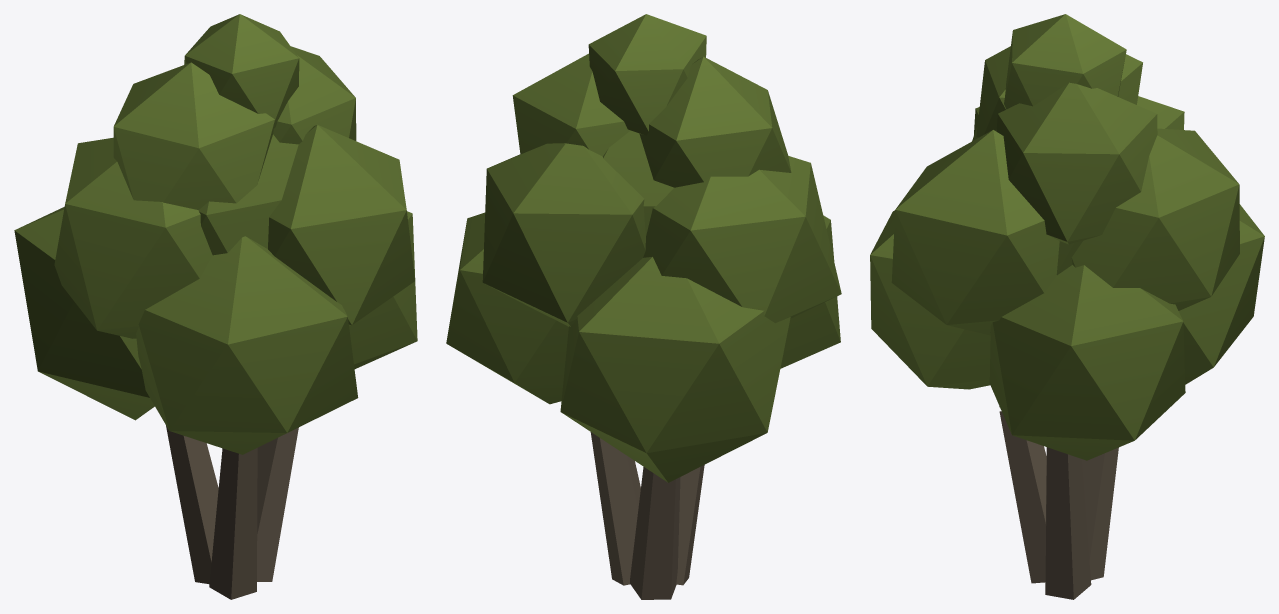
Rendered from bay.glb.
The picture shows the model from 3 angles, left to right: view 1: azimuth 30°, elevation 25°; view 2: azimuth 150°, elevation 25°; view 3: azimuth 270°, elevation 25°; orthographic projection.
Parts seen in each view (by area): view 1: bay; view 2: bay; view 3: bay.
Boxes of the visible parts, left/top/right/bottom form: bay: left=14, top=14, right=417, bottom=599; bay: left=446, top=14, right=841, bottom=599; bay: left=870, top=14, right=1264, bottom=599.
Size of the model in its own units: 0.6901 by 1.09 by 0.6807.
